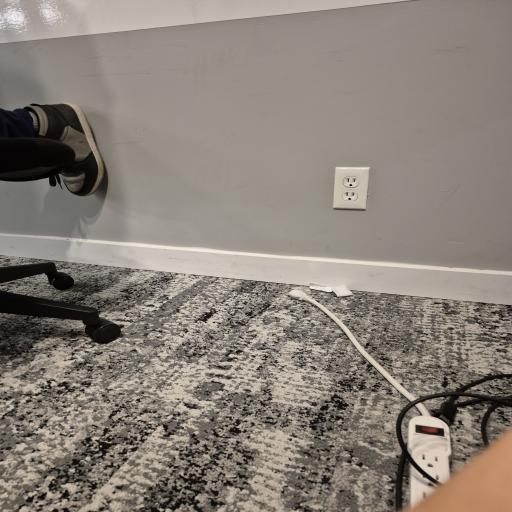outlet: (336, 170, 368, 206)
